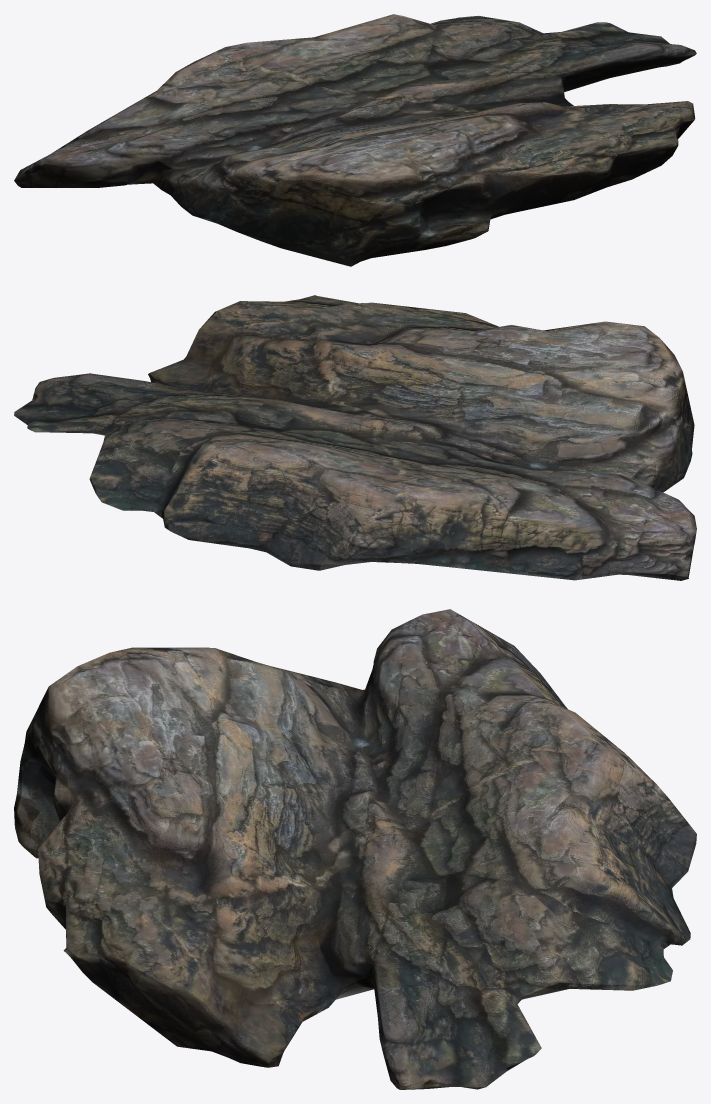
Rendered from rocks.glb.
The picture shows the model from 3 angles, top to bottom: view 1: azimuth 30°, elevation 25°; view 2: azimuth 150°, elevation 25°; view 3: azimuth 270°, elevation 25°; orthographic projection. The views are drawn at different scales.
Parts seen in each view (by area): view 1: Object_2; view 2: Object_2; view 3: Object_2.
Boxes of the visible parts, x1,y1,x2,y2 form: Object_2: (14,14,696,266); Object_2: (14,295,696,580); Object_2: (14,609,696,1089).
Bounding box in the file's own units: 7.33 × 1.11 × 4.81.
1 material, 1 textured.
